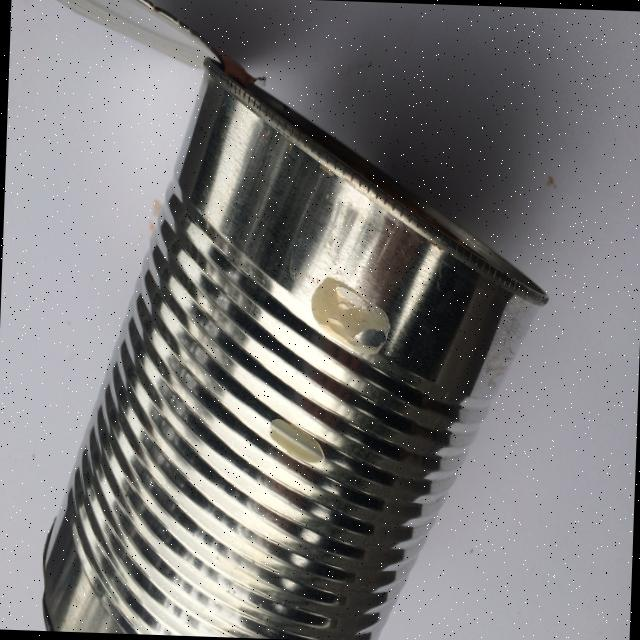metal: (17, 0, 560, 640)
